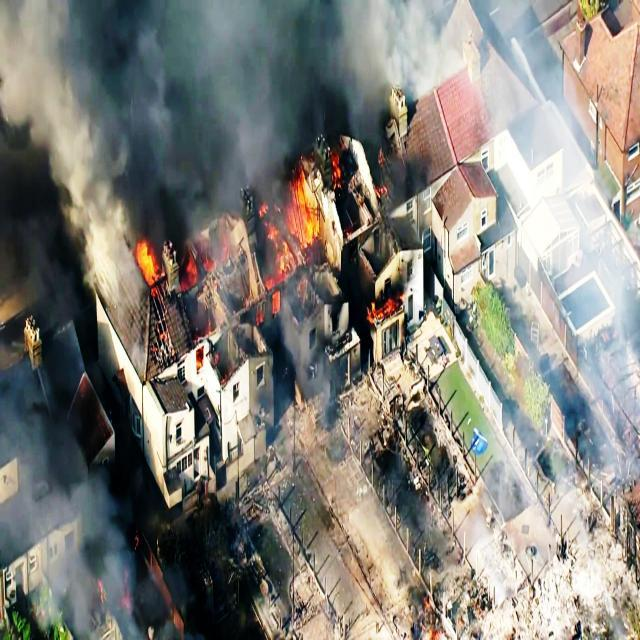Fire: (275, 178, 323, 266), (356, 282, 404, 338), (124, 233, 162, 291), (93, 576, 135, 622), (202, 229, 232, 280), (416, 596, 447, 640), (178, 254, 199, 296), (213, 348, 233, 392), (257, 200, 276, 242), (328, 144, 341, 194), (271, 287, 281, 324), (194, 342, 205, 375), (256, 296, 266, 331), (374, 182, 391, 200)
Smoke: (492, 13, 639, 640), (0, 0, 164, 220), (142, 0, 308, 156), (3, 376, 118, 574), (327, 2, 461, 100)
